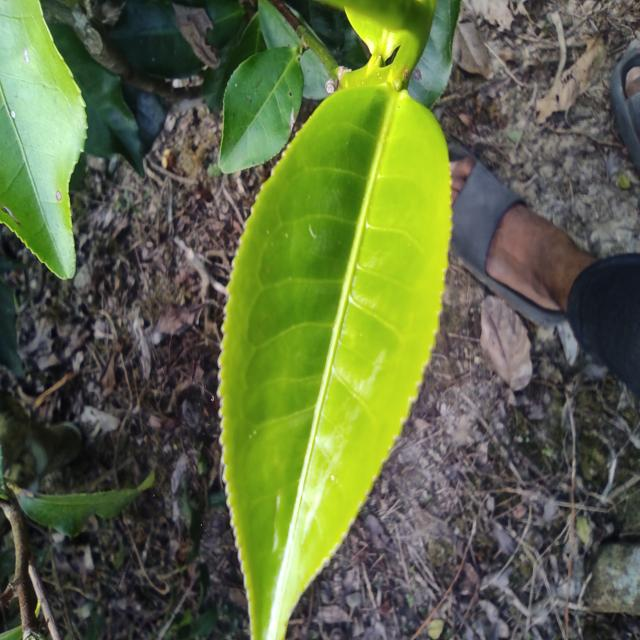Category B(2-4 days): (217, 64, 459, 640)
